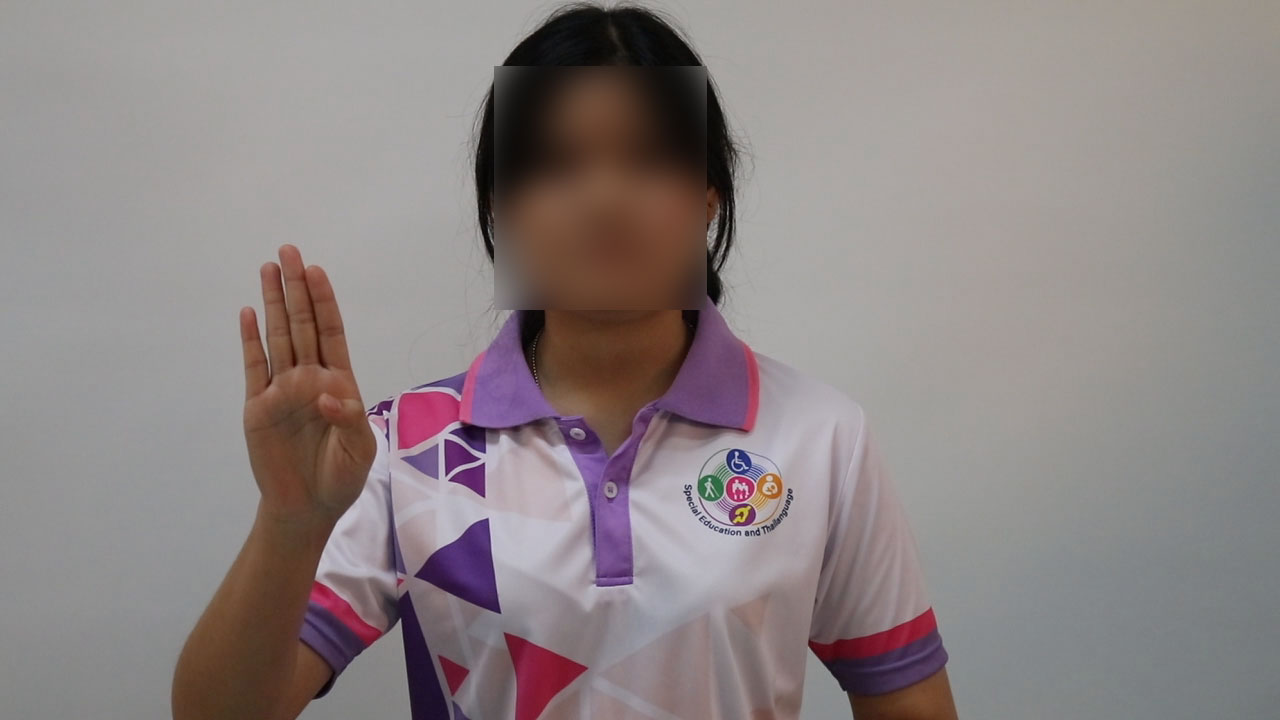bor: (215, 238, 390, 548)
